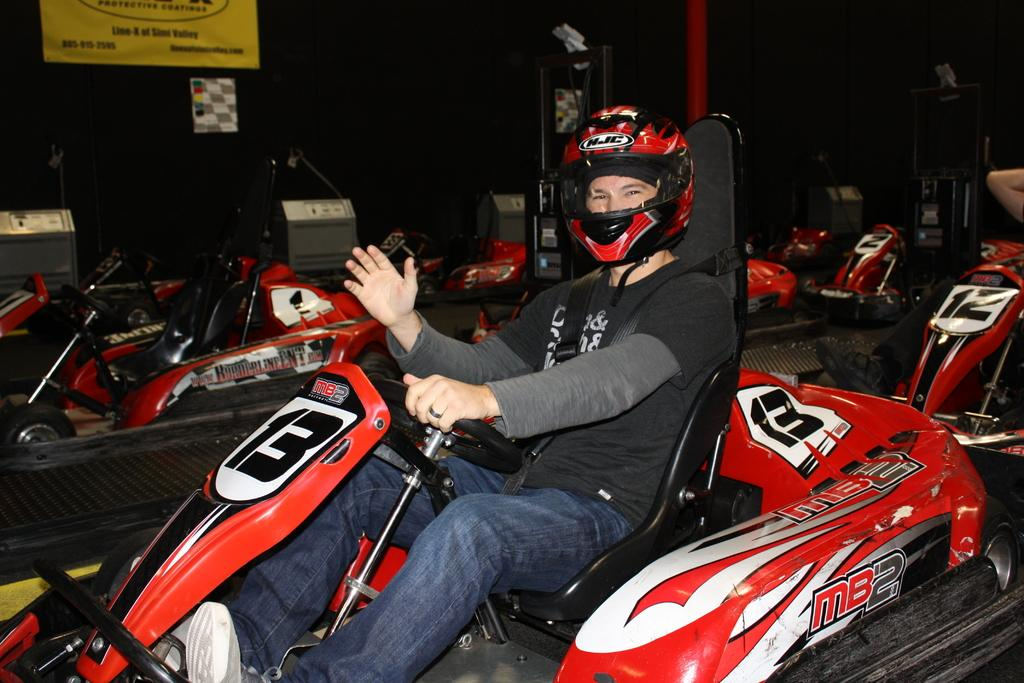helmet: (559, 105, 696, 263)
